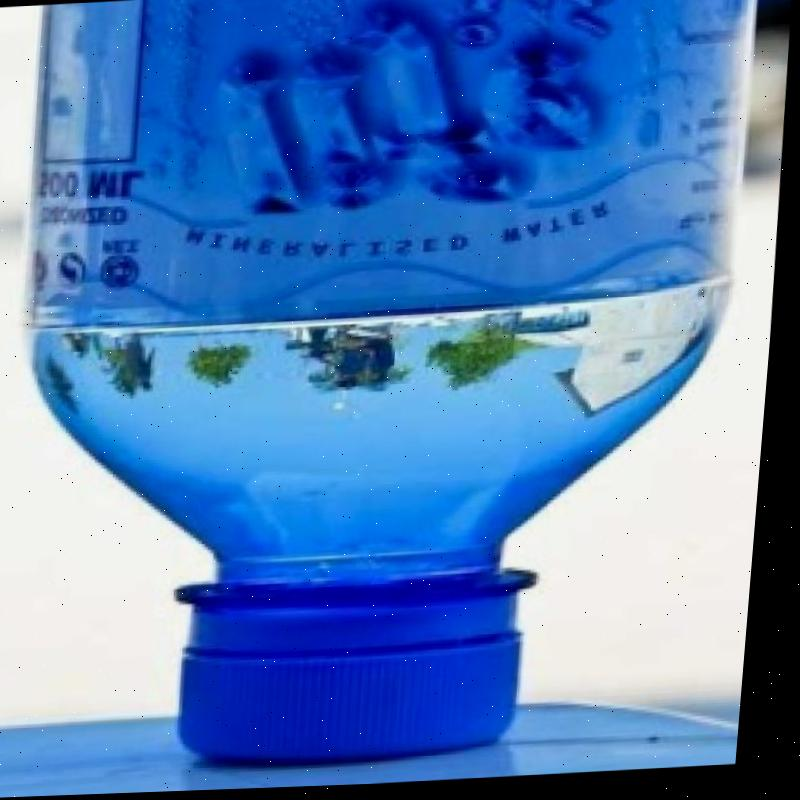botella: (0, 0, 774, 780)
